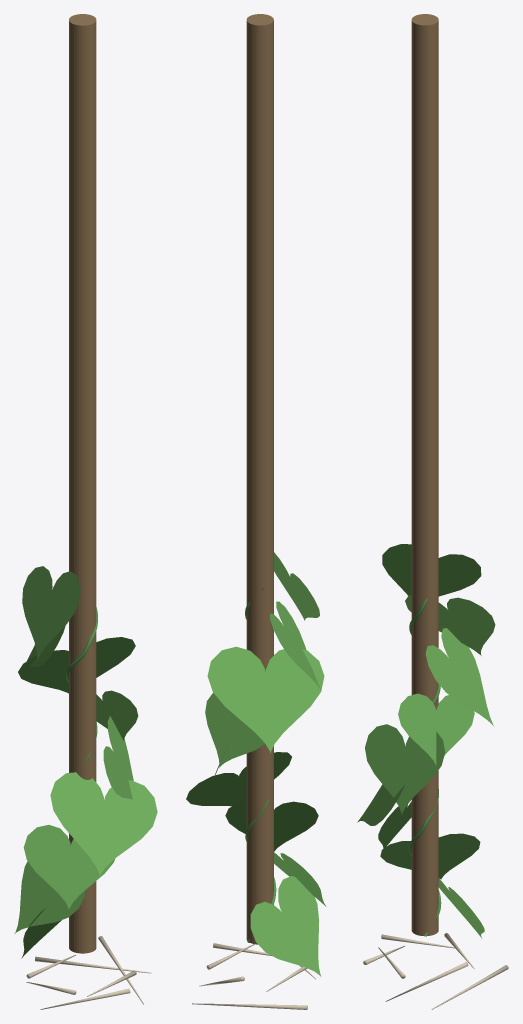
File: yam_2.glb
3 renders of one model, left to right at view 1: azimuth 30°, elevation 25°; view 2: azimuth 210°, elevation 25°; view 3: azimuth 270°, elevation 25°, orthographic.
Parts seen in each view (by area): view 1: TrellisStake, UbeLeaf_03, UbeLeaf_02, UbeLeaf_08, UbeLeaf_06, UbeLeaf_01, UbeLeaf_04, UbeLeaf_05, UbeLeaf_00, UbeLeaf_07, Root_01.001; view 2: TrellisStake, UbeLeaf_06, UbeLeaf_00, UbeLeaf_05, UbeLeaf_03, UbeLeaf_02, UbeLeaf_07, UbeLeaf_08, UbeLeaf_01, Root_01.001; view 3: TrellisStake, UbeLeaf_04, UbeLeaf_05, UbeLeaf_06, UbeLeaf_08, UbeLeaf_07, UbeLeaf_01, UbeLeaf_03, UbeLeaf_02, UbeLeaf_00, Vine.
Boxes of the visible parts, x1=… form: TrellisStake: x1=69, y1=14, x2=96, y2=953; UbeLeaf_03: x1=50, y1=772, x2=157, y2=876; UbeLeaf_02: x1=23, y1=825, x2=115, y2=909; UbeLeaf_08: x1=22, y1=566, x2=80, y2=660; UbeLeaf_06: x1=18, y1=637, x2=135, y2=693; UbeLeaf_01: x1=14, y1=861, x2=85, y2=933; UbeLeaf_04: x1=103, y1=716, x2=133, y2=799; UbeLeaf_05: x1=96, y1=690, x2=138, y2=740; UbeLeaf_00: x1=21, y1=907, x2=61, y2=958; UbeLeaf_07: x1=27, y1=626, x2=65, y2=666; Root_01.001: x1=35, y1=956, x2=151, y2=973; TrellisStake: x1=246, y1=14, x2=273, y2=944; UbeLeaf_06: x1=207, y1=646, x2=324, y2=753; UbeLeaf_00: x1=250, y1=876, x2=321, y2=976; UbeLeaf_05: x1=205, y1=692, x2=265, y2=767; UbeLeaf_03: x1=186, y1=752, x2=291, y2=806; UbeLeaf_02: x1=225, y1=801, x2=318, y2=851; UbeLeaf_07: x1=270, y1=601, x2=321, y2=690; UbeLeaf_08: x1=274, y1=552, x2=319, y2=620; UbeLeaf_01: x1=274, y1=852, x2=326, y2=906; Root_01.001: x1=192, y1=1003, x2=307, y2=1009; TrellisStake: x1=411, y1=14, x2=438, y2=936; UbeLeaf_04: x1=365, y1=724, x2=445, y2=814; UbeLeaf_05: x1=398, y1=693, x2=474, y2=765; UbeLeaf_06: x1=425, y1=628, x2=493, y2=726; UbeLeaf_08: x1=382, y1=544, x2=481, y2=596; UbeLeaf_07: x1=405, y1=595, x2=495, y2=655; UbeLeaf_01: x1=380, y1=833, x2=480, y2=879; UbeLeaf_03: x1=357, y1=784, x2=404, y2=825; UbeLeaf_02: x1=378, y1=801, x2=411, y2=848; UbeLeaf_00: x1=438, y1=878, x2=484, y2=937; Vine: x1=409, y1=579, x2=441, y2=936.
Size of the model in its own units: 0.3883 by 2.75 by 0.3943.
